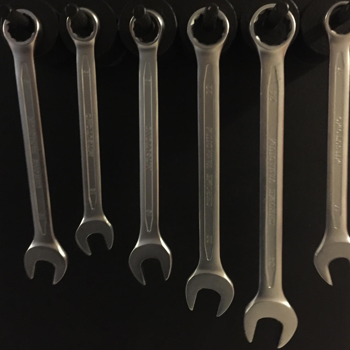bottom: (240, 294, 300, 349), (182, 264, 235, 320), (22, 236, 69, 286), (127, 238, 173, 288), (310, 234, 350, 288), (73, 218, 115, 257)
top: (247, 1, 298, 54), (184, 5, 233, 54), (1, 5, 43, 52), (125, 6, 167, 50), (61, 4, 101, 45), (322, 0, 350, 44)
